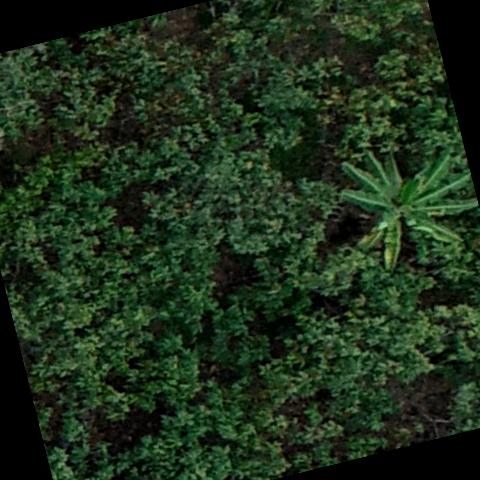Banana-plant: (318, 120, 480, 286)
